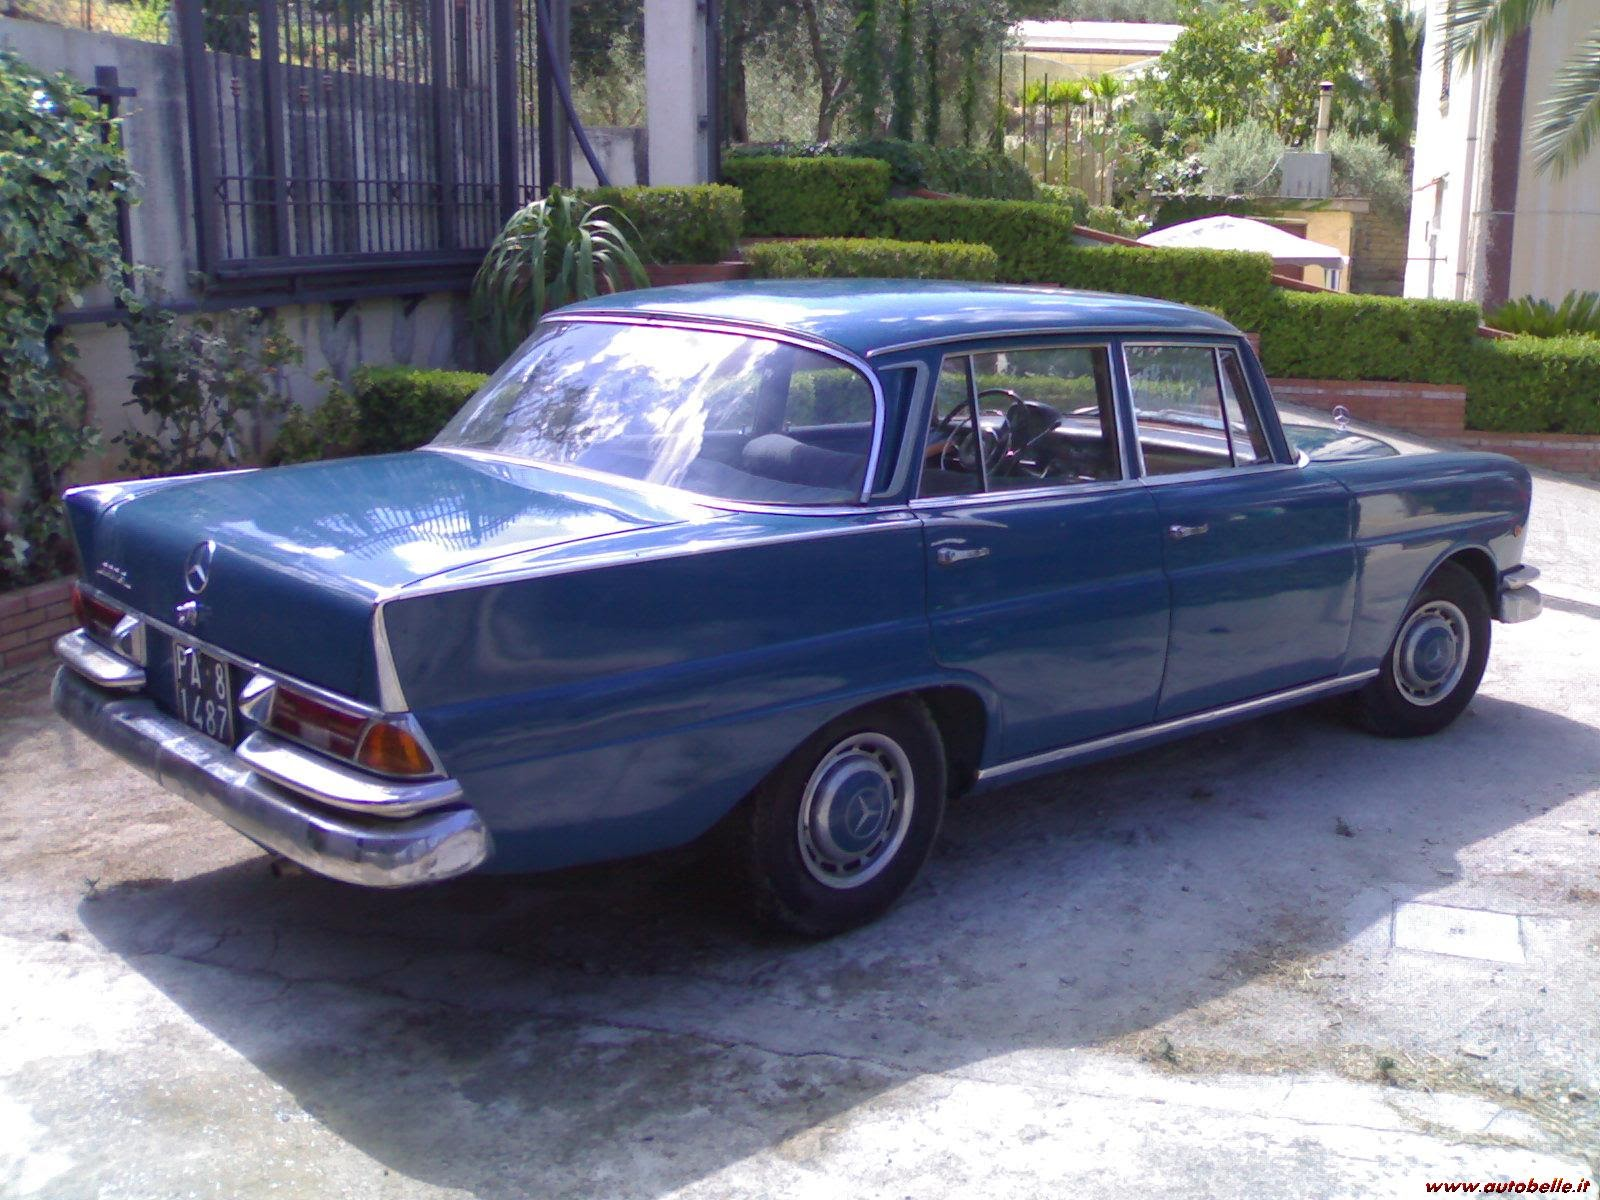car: (20, 228, 1576, 989)
